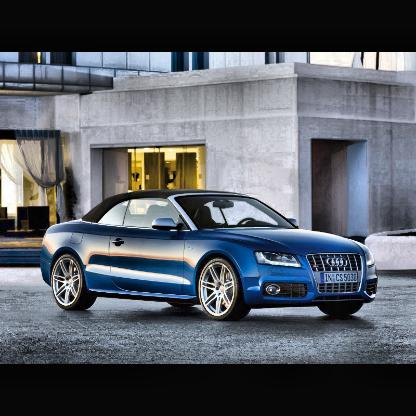Audi S5 Convertible 2012: (40, 190, 380, 326)
